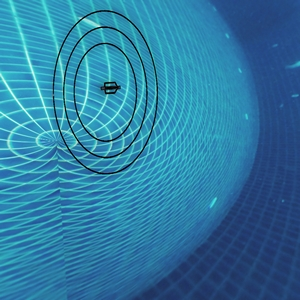circle: (48, 6, 158, 178), (154, 173, 155, 175)
